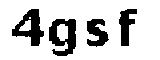4: (10, 4, 46, 52)
f: (114, 4, 144, 54)
g: (47, 16, 79, 60)
s: (83, 17, 110, 50)
